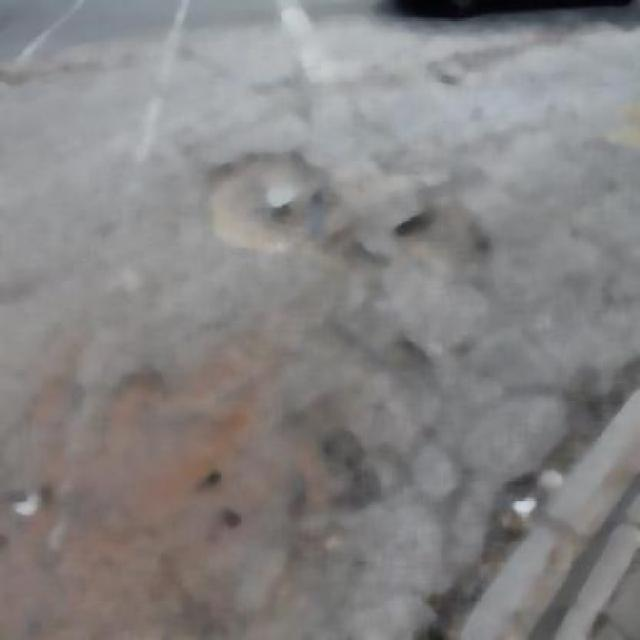Pothole: (205, 154, 342, 266), (388, 202, 494, 282)
